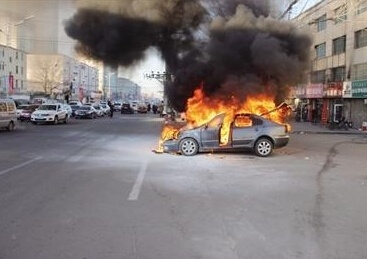fire: (160, 83, 291, 149)
